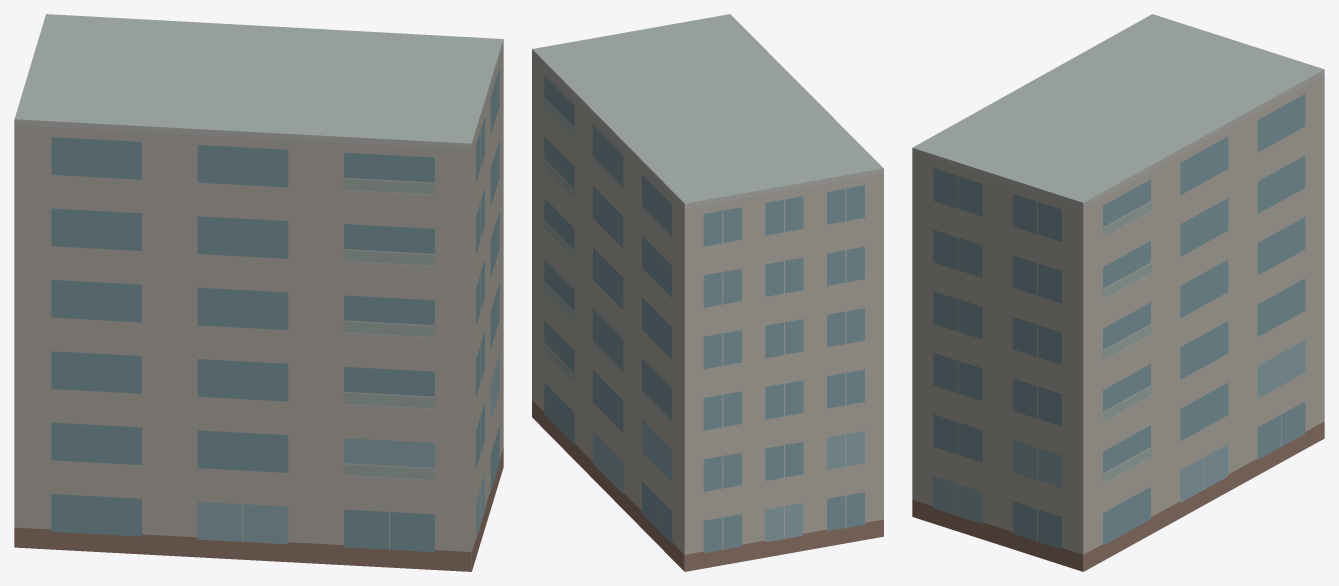
The model's file is survey-upis-32999989.glb.
3 renders of one model, left to right at view 1: azimuth 30°, elevation 25°; view 2: azimuth 150°, elevation 25°; view 3: azimuth 270°, elevation 25°, orthographic. The views are drawn at different scales.
Visible parts, largest first — view 1: survey-upis-32999989.tmp; view 2: survey-upis-32999989.tmp; view 3: survey-upis-32999989.tmp.
Part boxes in pixels (<box>): survey-upis-32999989.tmp: <box>14,14,503,571</box>; survey-upis-32999989.tmp: <box>532,14,883,571</box>; survey-upis-32999989.tmp: <box>912,14,1324,571</box>.
Size of the model in its own units: 20.09 by 18.3 by 18.54.
